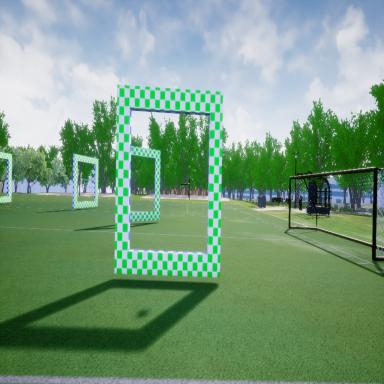gate: (115, 80, 224, 287), (72, 151, 100, 213)
